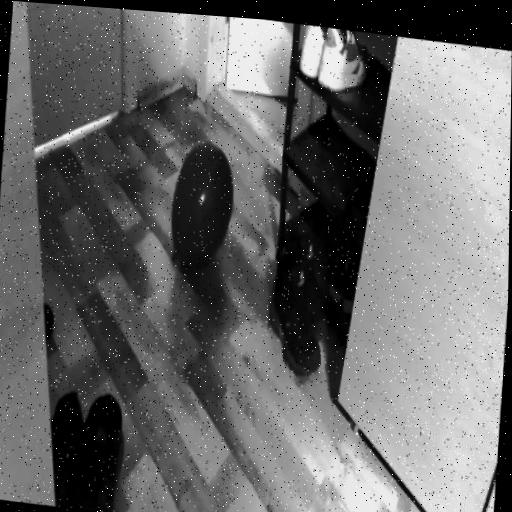balloon: (165, 128, 239, 288)
